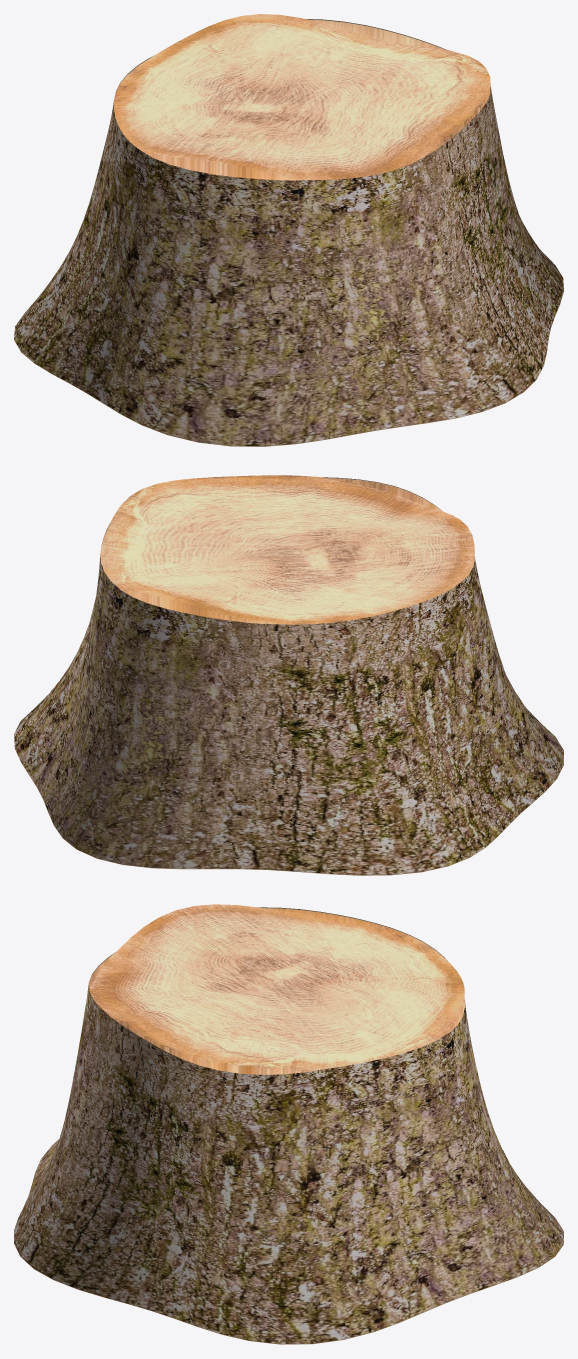
File: stump.gltf
3 views of the same model, one above another, from view 1: azimuth 30°, elevation 25°; view 2: azimuth 150°, elevation 25°; view 3: azimuth 270°, elevation 25° (orthographic). The views are drawn at different scales.
Visible parts, largest first — view 1: stump; view 2: stump; view 3: stump.
Part boxes in pixels (x1,y1,x2,y2): stump: (14,14,563,446); stump: (14,475,563,875); stump: (14,904,563,1344).
Bounding box in the file's own units: 0.9775 × 0.4525 × 0.9413.
Materials: 1 (1 with a texture image).
